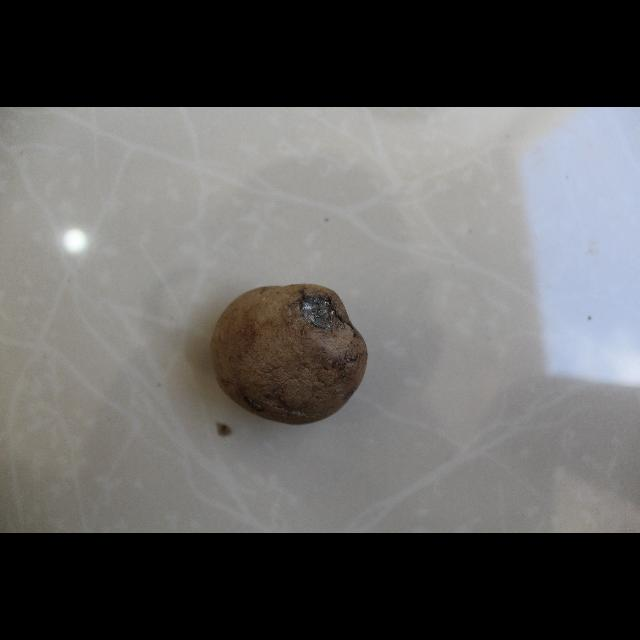Diseased-fungal potato: (204, 281, 370, 429)
